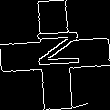N_W: (29, 34, 81, 76)
